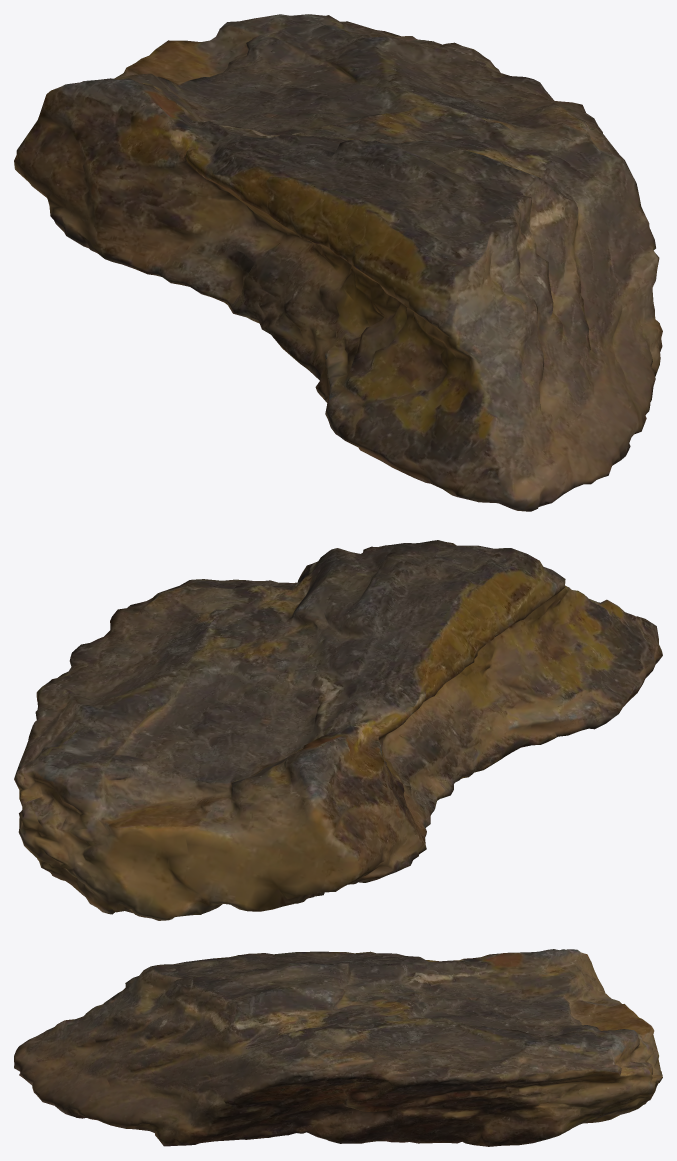
Rendered from rock_09.glb.
The picture shows the model from 3 angles, top to bottom: view 1: azimuth 30°, elevation 25°; view 2: azimuth 150°, elevation 25°; view 3: azimuth 270°, elevation 25°; orthographic projection. The views are drawn at different scales.
Visible parts, largest first — view 1: rock_09_LOD0; view 2: rock_09_LOD0; view 3: rock_09_LOD0.
Boxes of the visible parts, x1,y1,x2,y2 form: rock_09_LOD0: (14,14,662,511); rock_09_LOD0: (14,540,662,920); rock_09_LOD0: (14,949,662,1146).
Bounding box in the file's own units: 0.074 × 0.0329 × 0.1446.
Materials: 1 (1 with a texture image).
